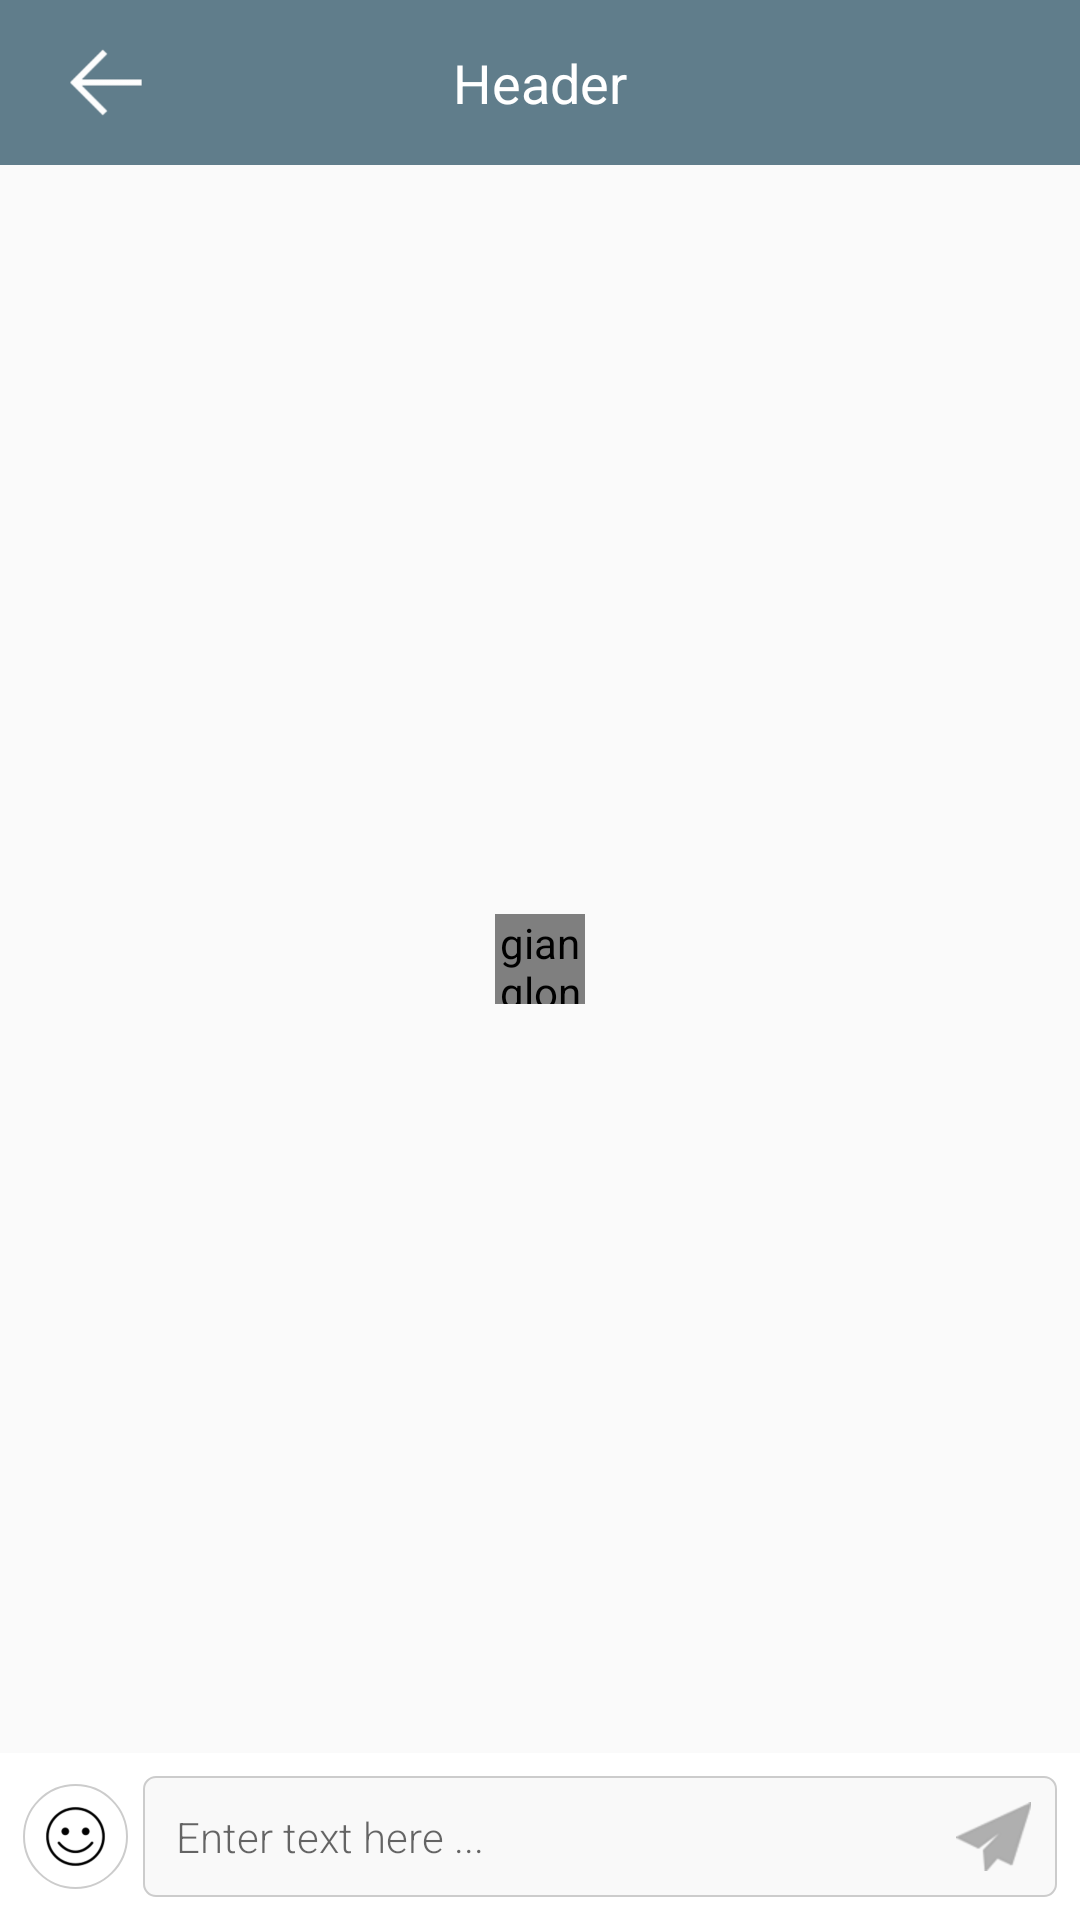

Point at icon controls on the screen. Image size 1080 × 1920, points as [x,y].
back: [106,82]
emoji: [75,1836]
send deactivate: [993,1836]
